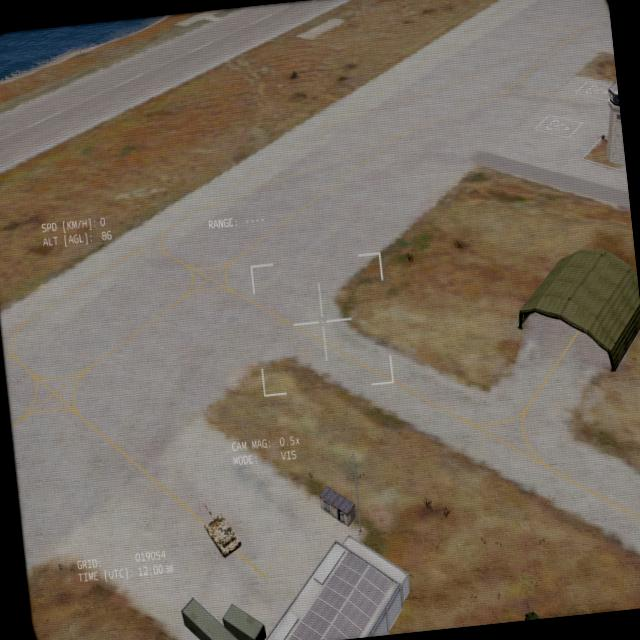tank: (200, 496, 242, 560)
